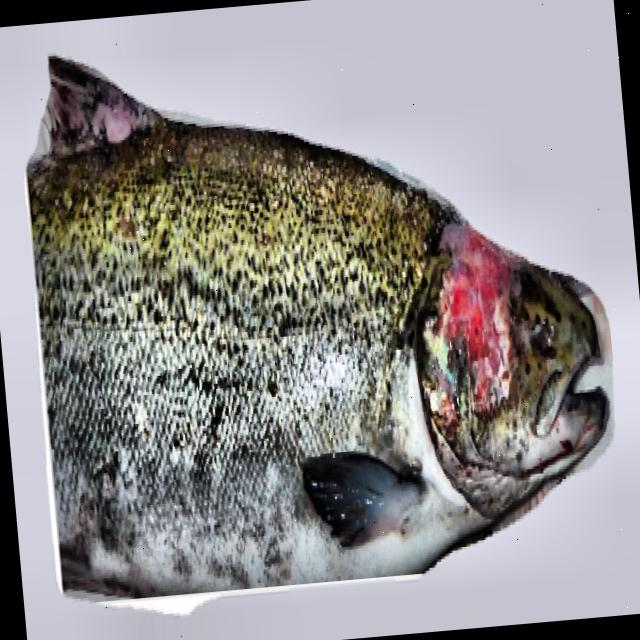mild_red: (26, 123, 452, 588)
wound: (433, 225, 516, 419)
